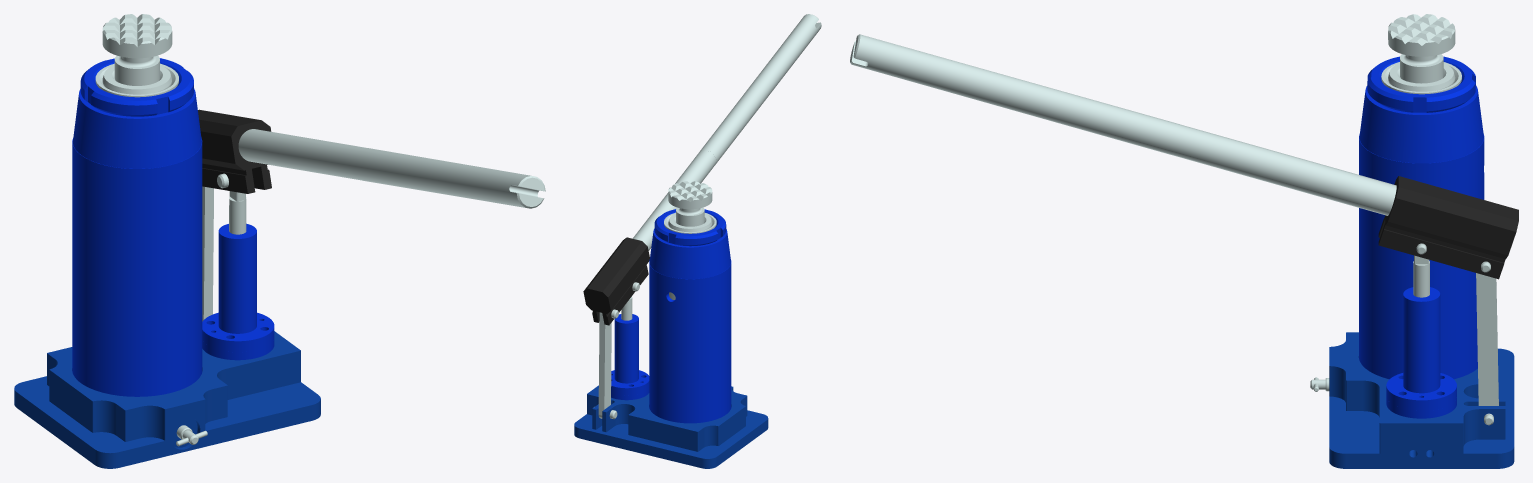
Rendered from Donkraft2.glb.
3 renders of one model, left to right at view 1: azimuth 30°, elevation 25°; view 2: azimuth 150°, elevation 25°; view 3: azimuth 270°, elevation 25°, orthographic. The views are drawn at different scales.
Parts seen in each view (by area): view 1: beholder, Bundplade1, håndtag, beholdertop, pumpecylinder, topstykke, spindel1, Notmøtrik, led, stempel, pumpestempel1, ventilplade (+1 smaller); view 2: beholder, Bundplade1, håndtag, topstykke, beholdertop, pumpecylinder, spindel1, Notmøtrik, led, stempel, cylinder; view 3: håndtag, Bundplade1, beholder, topstykke, beholdertop, pumpecylinder, spindel1, Notmøtrik, led, stempel.
Boxes of the visible parts, <box> form: beholder: <box>72,137,202,396</box>; Bundplade1: <box>14,331,320,468</box>; håndtag: <box>238,129,545,208</box>; beholdertop: <box>73,88,201,168</box>; pumpecylinder: <box>202,223,274,352</box>; topstykke: <box>198,109,271,193</box>; spindel1: <box>102,14,172,85</box>; Notmøtrik: <box>80,58,193,116</box>; led: <box>202,186,213,321</box>; stempel: <box>102,65,171,94</box>; pumpestempel1: <box>229,191,246,234</box>; ventilplade: <box>202,339,274,360</box>; beholder: <box>649,260,731,423</box>; Bundplade1: <box>574,385,768,468</box>; håndtag: <box>633,14,821,250</box>; topstykke: <box>583,237,649,325</box>; beholdertop: <box>649,228,730,279</box>; pumpecylinder: <box>611,314,649,395</box>; spindel1: <box>668,181,712,226</box>; Notmøtrik: <box>654,209,726,246</box>; led: <box>598,312,611,418</box>; stempel: <box>668,213,712,232</box>; cylinder: <box>664,212,716,299</box>; håndtag: <box>850,34,1396,215</box>; Bundplade1: <box>1329,332,1514,468</box>; beholder: <box>1359,133,1484,379</box>; topstykke: <box>1378,176,1518,279</box>; beholdertop: <box>1359,85,1483,163</box>; pumpecylinder: <box>1386,287,1456,410</box>; spindel1: <box>1388,14,1455,83</box>; Notmøtrik: <box>1367,56,1475,112</box>; led: <box>1476,273,1498,405</box>; stempel: <box>1388,63,1455,91</box>.
Size of the model in its own units: 0.148 by 0.2713 by 0.3979.
